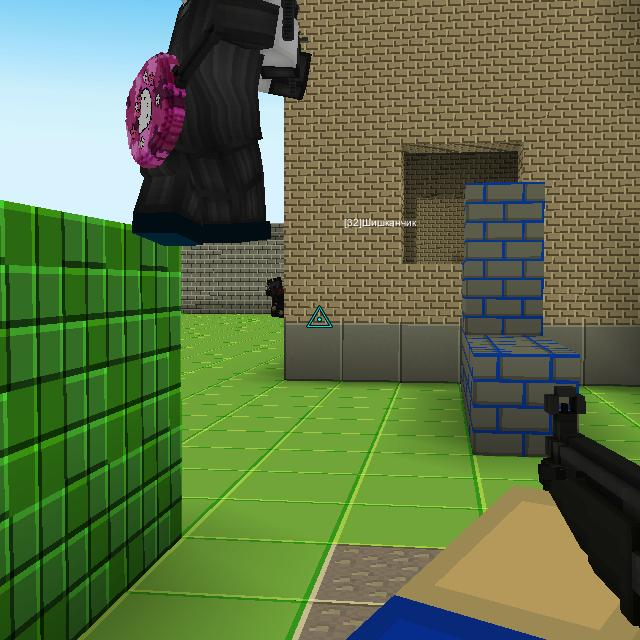enemy: (263, 275, 285, 319)
